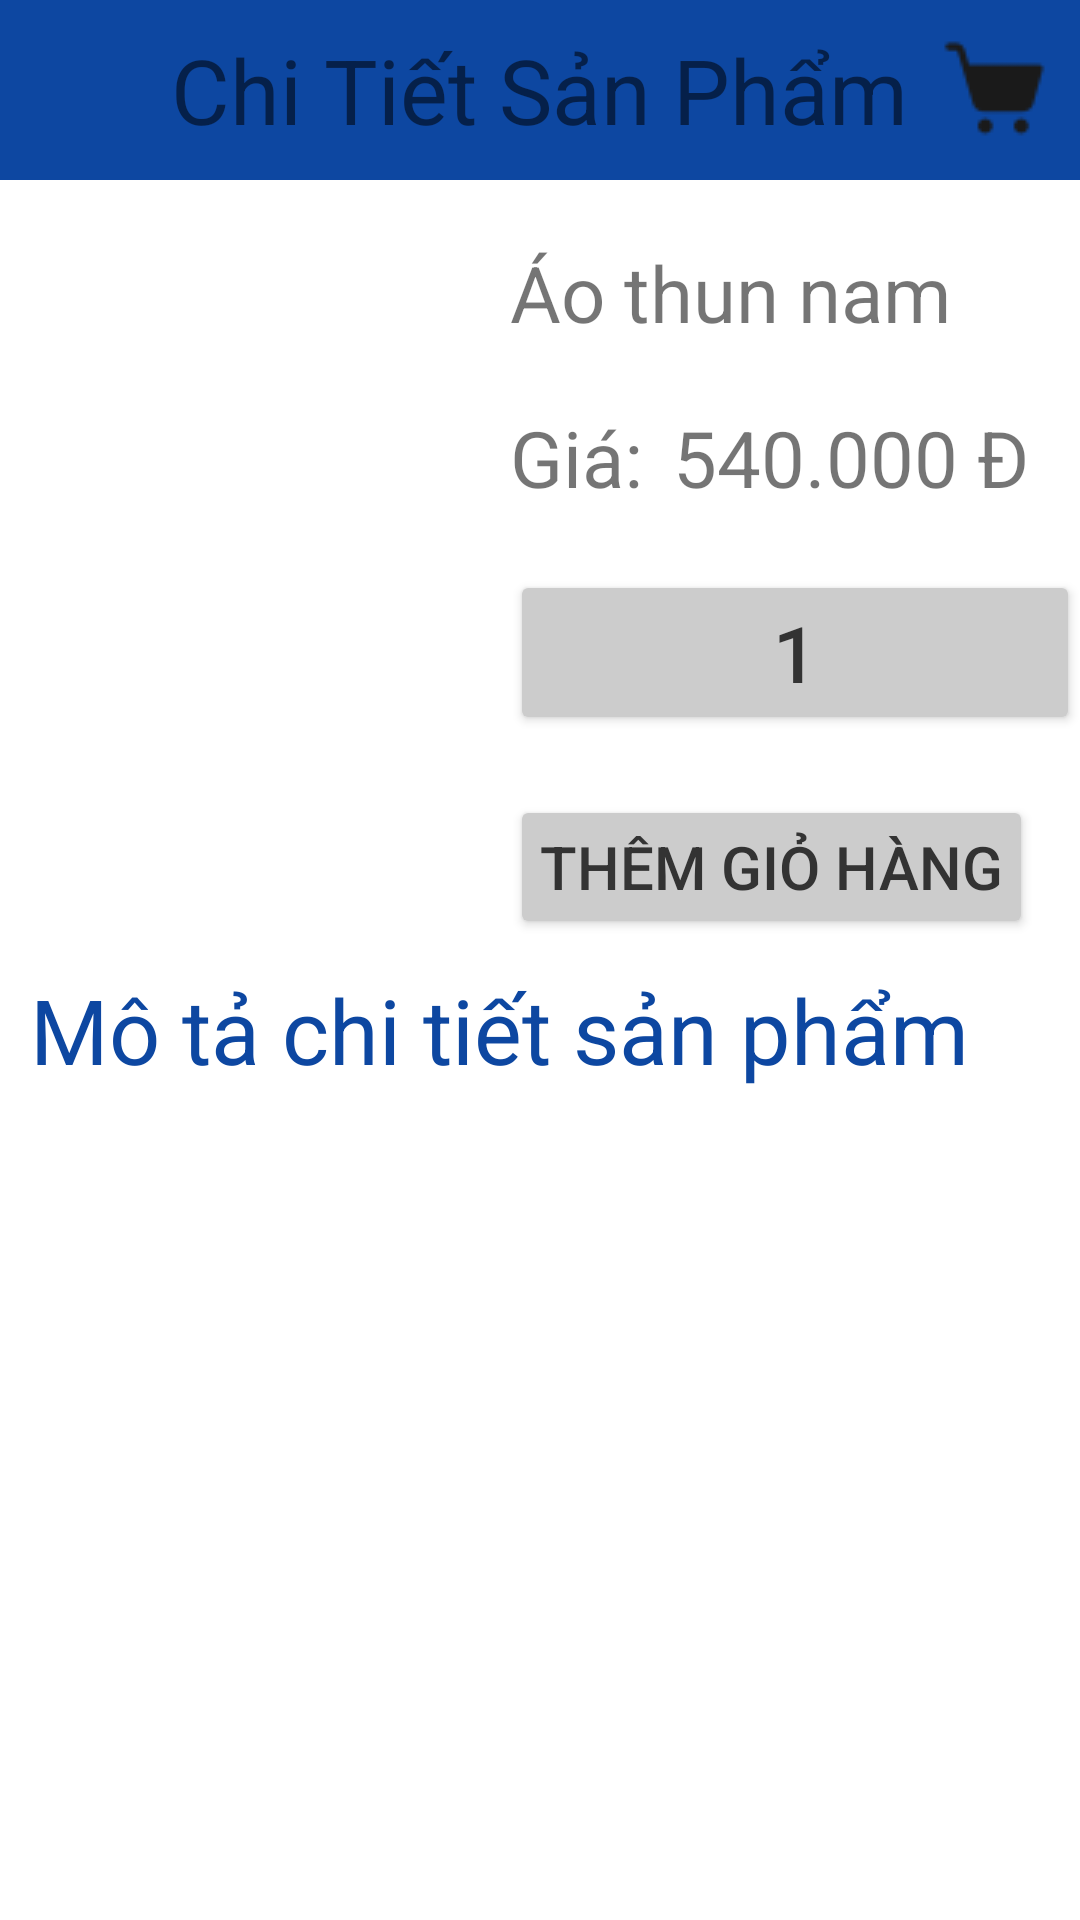

Named icons in this screenshot (1080×1920) and their bounding boxes, [x1=x1, y1=y1, x2=x2, y2=y2]:
cart: [x1=944, y1=41, x2=1044, y2=135]
